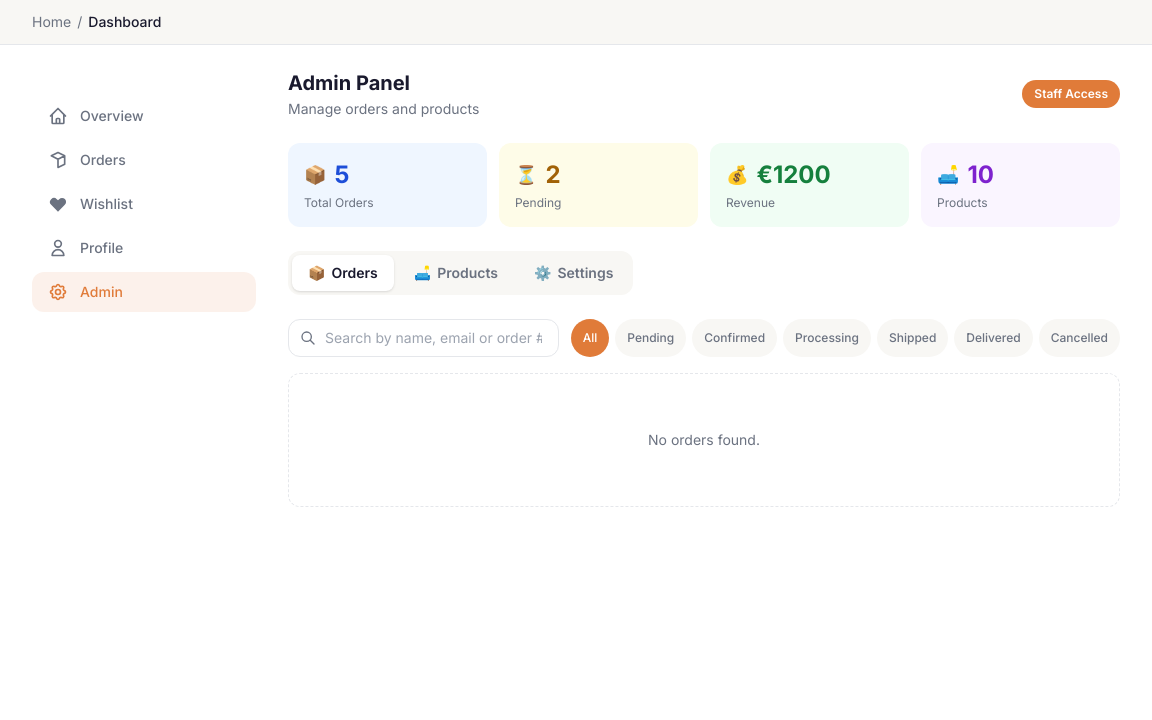
Test: Admin Settings tab › shows error message when save fails
This screenshot has width=1152, height=720.
Expected: the heading "Admin Panel" is shown, [288,71,410,95]
Click the button "⚙️ Settings": (574, 273) [518,255,629,291]
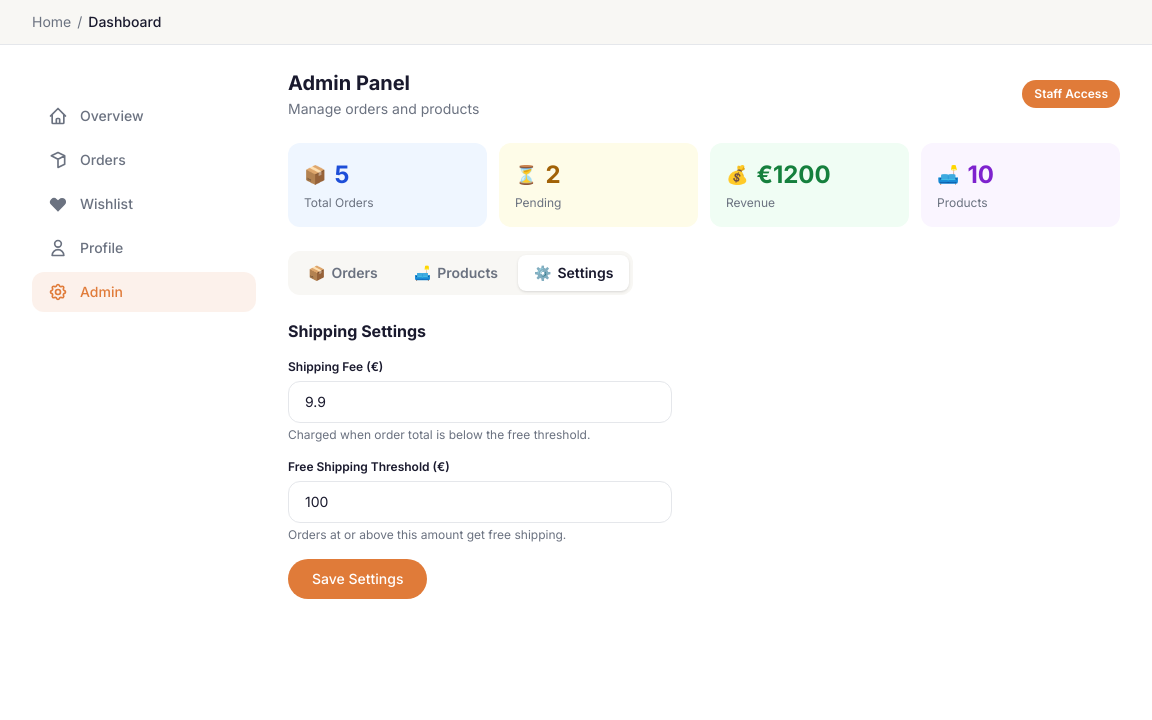
Now the heading "Shipping Settings" is shown, box [288,321,426,341]
Now the button "Save Settings" is shown, box [288,559,427,599]
Submit the form, box [288,359,672,599]
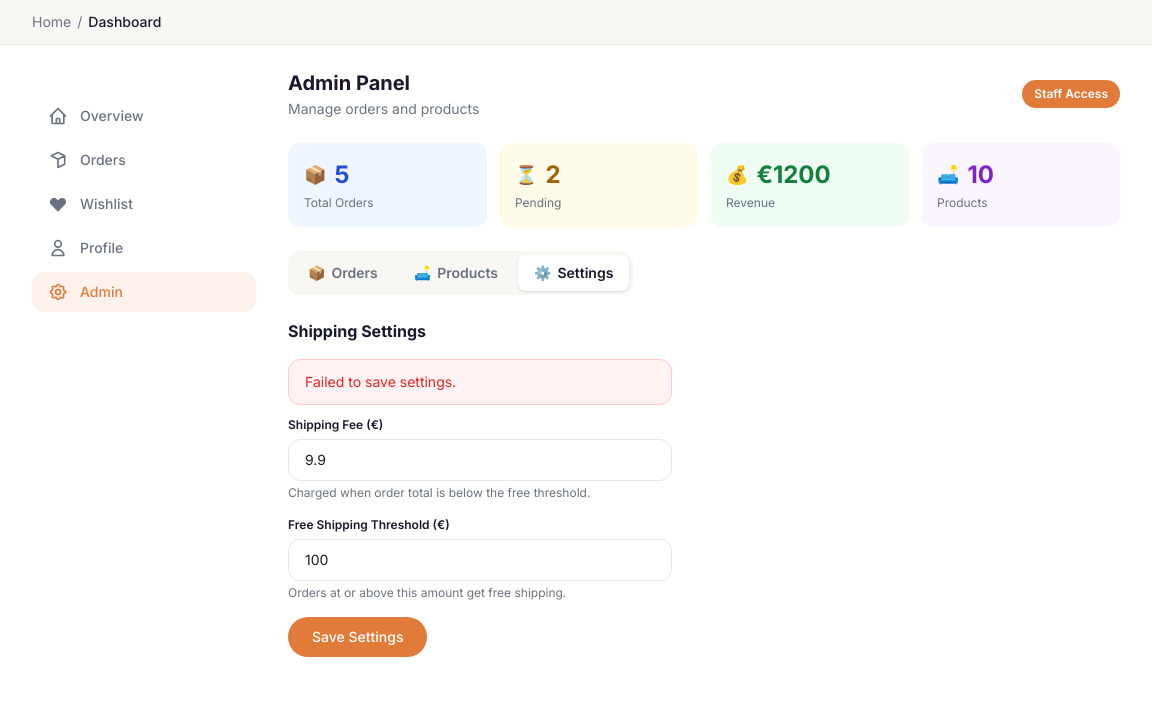
Now the text "Failed to save settings." is shown, box [288,359,672,405]
